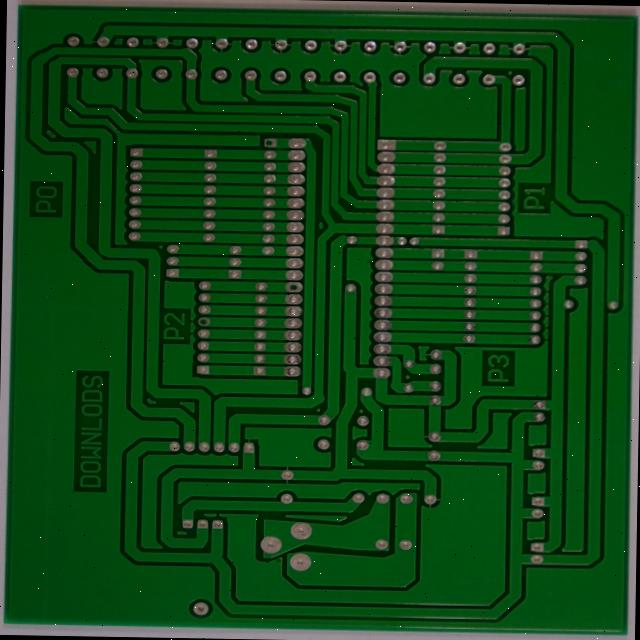missing_hole: (284, 281, 302, 293), (262, 135, 277, 149), (195, 315, 210, 328)
